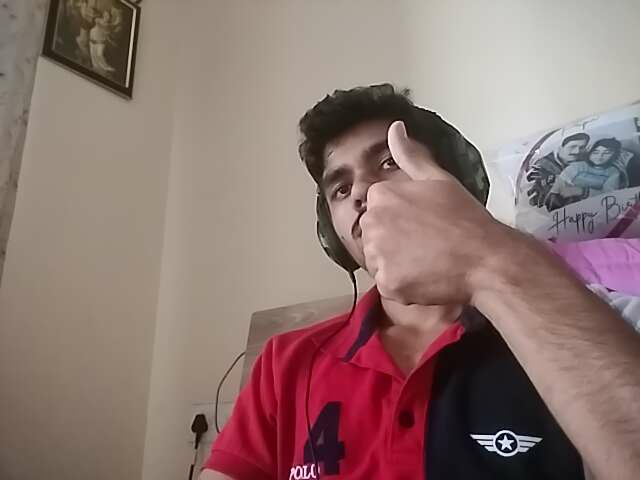Yes: (353, 133, 518, 338)
